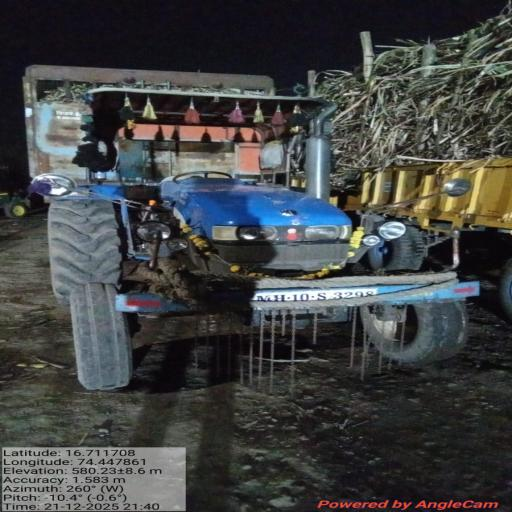number_plate: (251, 288, 378, 302)
